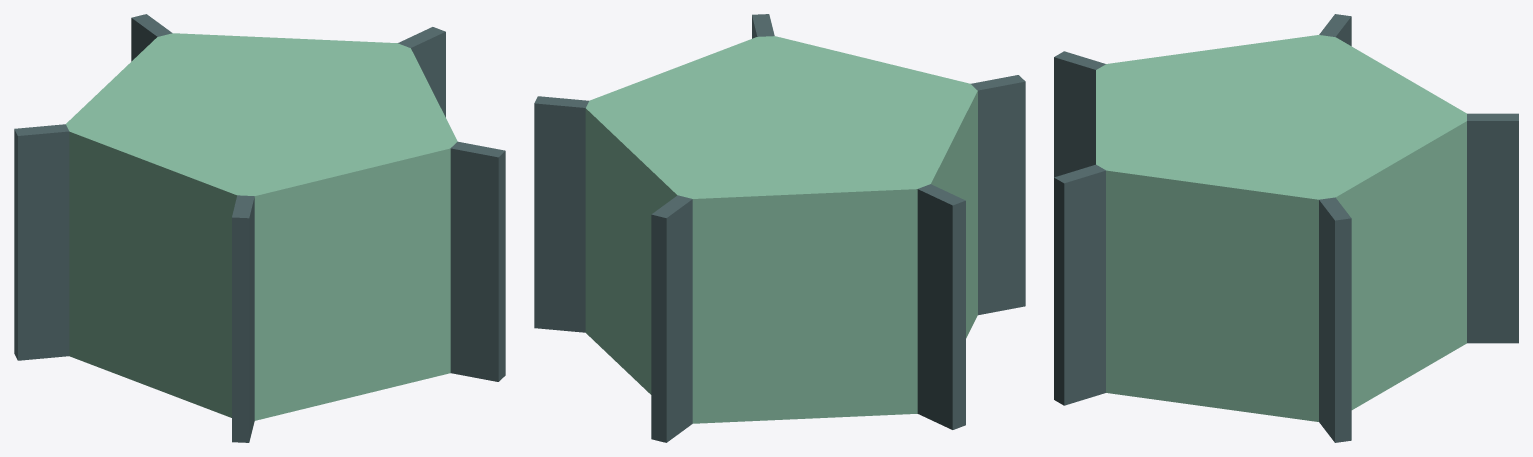
The model's file is cryptex balls out besgen.fbx.
3 views of the same model, side by side, from view 1: azimuth 30°, elevation 25°; view 2: azimuth 150°, elevation 25°; view 3: azimuth 270°, elevation 25° (orthographic).
Visible parts, largest first — view 1: besgen, besgen yan.002, besgen yan.004, besgen yan.003, besgen yan, besgen yan.001; view 2: besgen, besgen yan, besgen yan.002, besgen yan.003, besgen yan.001; view 3: besgen, besgen yan.001, besgen yan.004, besgen yan, besgen yan.003, besgen yan.002.
Boxes of the visible parts, x1,y1,x2,y2 form: besgen: (66, 33, 457, 420); besgen yan.002: (14, 124, 69, 360); besgen yan.004: (450, 141, 505, 381); besgen yan.003: (232, 195, 254, 442); besgen yan: (398, 27, 445, 117); besgen yan.001: (131, 14, 172, 61); besgen: (585, 36, 977, 423); besgen yan: (534, 96, 588, 332); besgen yan.002: (917, 184, 965, 429); besgen yan.003: (971, 75, 1025, 315); besgen yan.001: (651, 195, 692, 442); besgen: (1096, 35, 1466, 421); besgen yan.001: (1467, 113, 1518, 343); besgen yan.004: (1054, 164, 1105, 405); besgen yan: (1319, 197, 1351, 442); besgen yan.003: (1054, 51, 1105, 177); besgen yan.002: (1319, 14, 1351, 46).
Size of the model in its own units: 399 by 200 by 379.
Materials: 1 (1 with a texture image).
